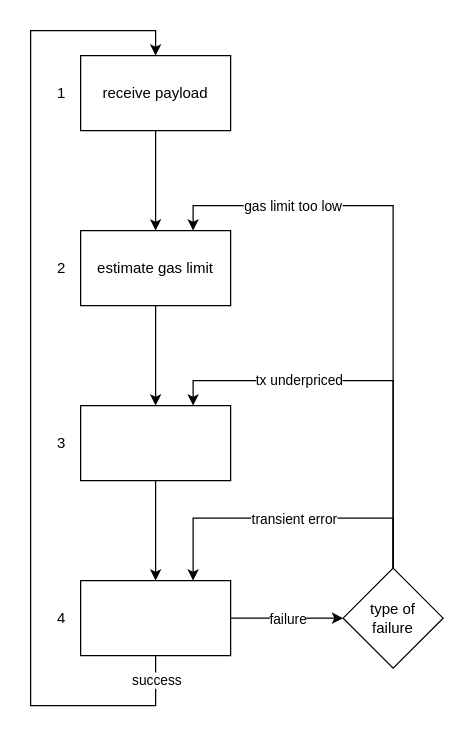
The diagram is 465 pixels wide and 738 high, and some of its shapes have lost their labels. The shapes that lost their labels are listed below. From the top down, each one's centre as x and y in pixels, then its label:
the point at 155,442: query gas price
the point at 155,617: broadcast transaction
